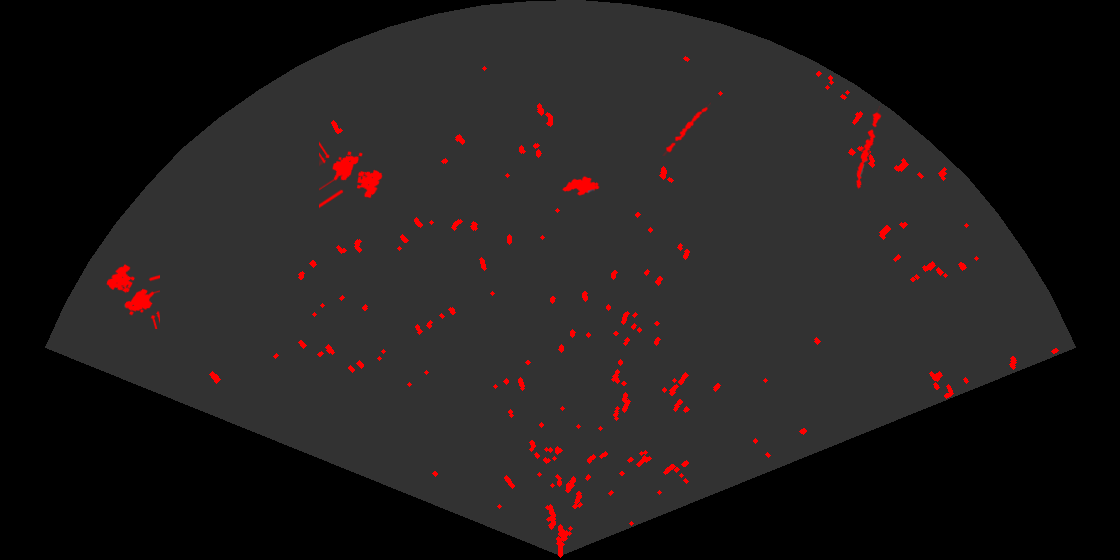AUV: (560, 174, 601, 197)
cage: (319, 140, 384, 210), (105, 262, 160, 329)
chain: (661, 101, 711, 156), (855, 106, 883, 190)
